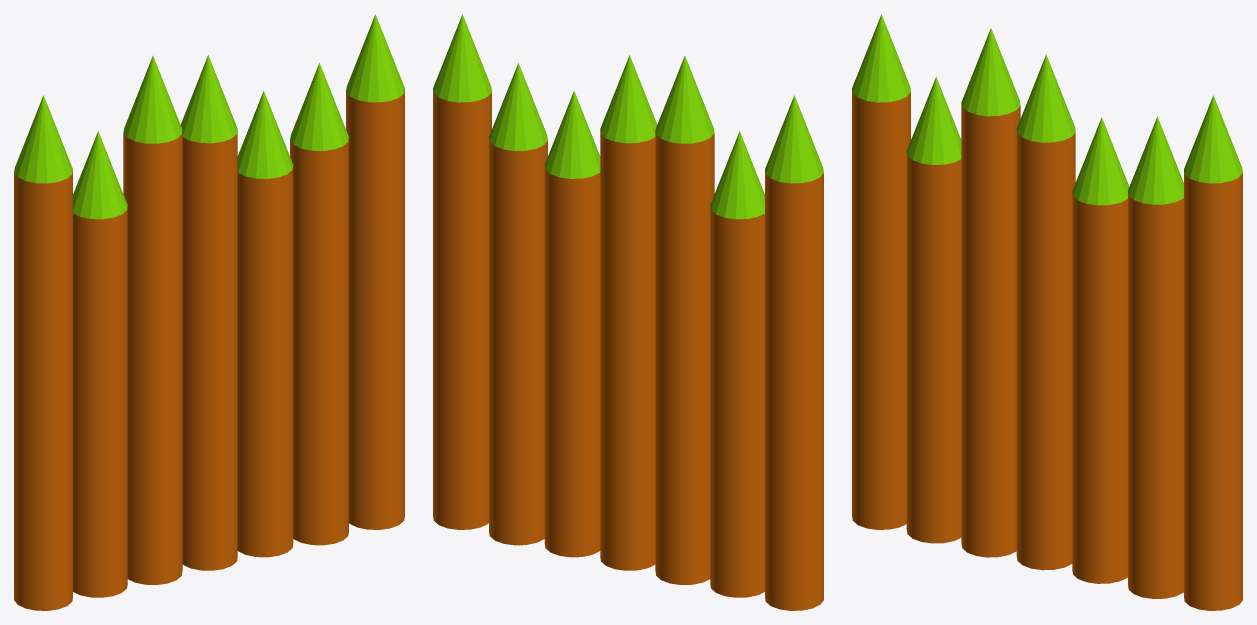
The model's file is WoodWall.fbx.
The picture shows the model from 3 angles, left to right: view 1: azimuth 30°, elevation 25°; view 2: azimuth 150°, elevation 25°; view 3: azimuth 330°, elevation 25°; orthographic projection.
Visible parts, largest first — view 1: Cylinder, Cylinder.002, Cylinder.006, Cylinder.003, Cylinder.005, Cylinder.004, Cylinder.001; view 2: Cylinder, Cylinder.002, Cylinder.006, Cylinder.003, Cylinder.005, Cylinder.004, Cylinder.001; view 3: Cylinder.006, Cylinder.002, Cylinder.003, Cylinder, Cylinder.005, Cylinder.004, Cylinder.001.
Boxes of the visible parts, left/top/right/bottom form: Cylinder: left=14, top=95, right=72, bottom=610; Cylinder.002: left=123, top=56, right=182, bottom=584; Cylinder.006: left=346, top=14, right=404, bottom=529; Cylinder.003: left=180, top=55, right=237, bottom=570; Cylinder.005: left=290, top=63, right=348, bottom=545; Cylinder.004: left=237, top=91, right=293, bottom=557; Cylinder.001: left=73, top=131, right=127, bottom=597; Cylinder: left=765, top=95, right=823, bottom=610; Cylinder.002: left=655, top=56, right=714, bottom=584; Cylinder.006: left=433, top=14, right=491, bottom=529; Cylinder.003: left=600, top=55, right=657, bottom=570; Cylinder.005: left=489, top=63, right=547, bottom=545; Cylinder.004: left=544, top=91, right=600, bottom=557; Cylinder.001: left=710, top=131, right=764, bottom=597; Cylinder.006: left=1184, top=95, right=1242, bottom=610; Cylinder.002: left=961, top=28, right=1020, bottom=557; Cylinder.003: left=1016, top=54, right=1075, bottom=570; Cylinder: left=852, top=14, right=910, bottom=529; Cylinder.005: left=1128, top=116, right=1183, bottom=598; Cylinder.004: left=1072, top=117, right=1129, bottom=583; Cylinder.001: left=906, top=77, right=961, bottom=543.
Bounding box in the file's own units: 947 × 1223 × 127.
